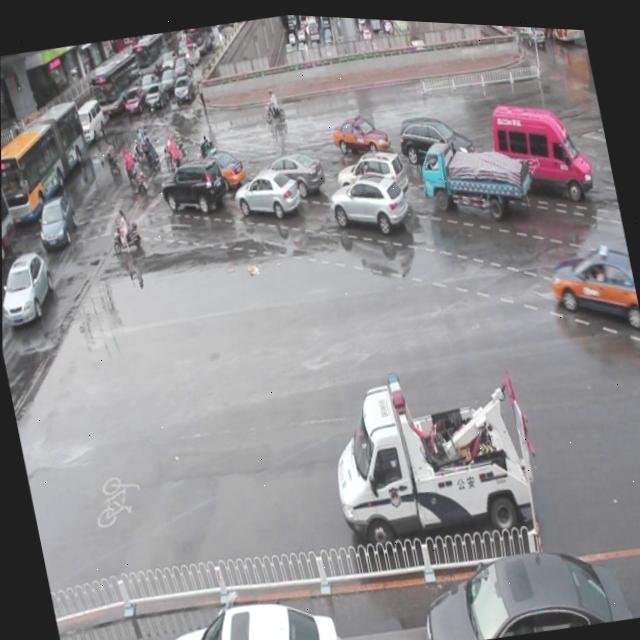bus: (317, 335, 551, 563), (416, 118, 535, 224)
car: (415, 526, 632, 640), (142, 586, 343, 640), (544, 233, 640, 335), (325, 158, 413, 238), (396, 100, 475, 171), (156, 147, 230, 215), (334, 141, 409, 201), (229, 161, 304, 220), (256, 139, 326, 200), (331, 103, 391, 154), (191, 139, 248, 192)
truck: (483, 80, 596, 203)
